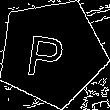P_N: (30, 25, 74, 80)
